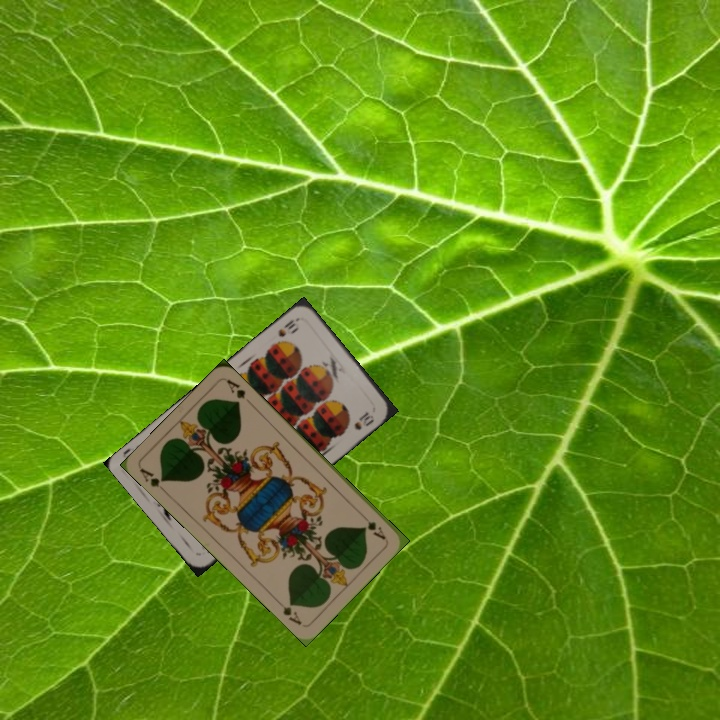GA: (136, 464, 170, 497), (363, 517, 388, 542)
S10: (274, 315, 298, 340)
